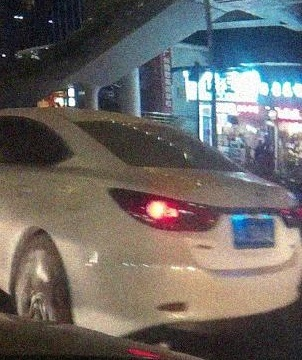L_light: (106, 187, 220, 233)
R_light: (278, 203, 299, 227)
T_light: (136, 124, 158, 129)
night-left: (67, 110, 301, 339)
